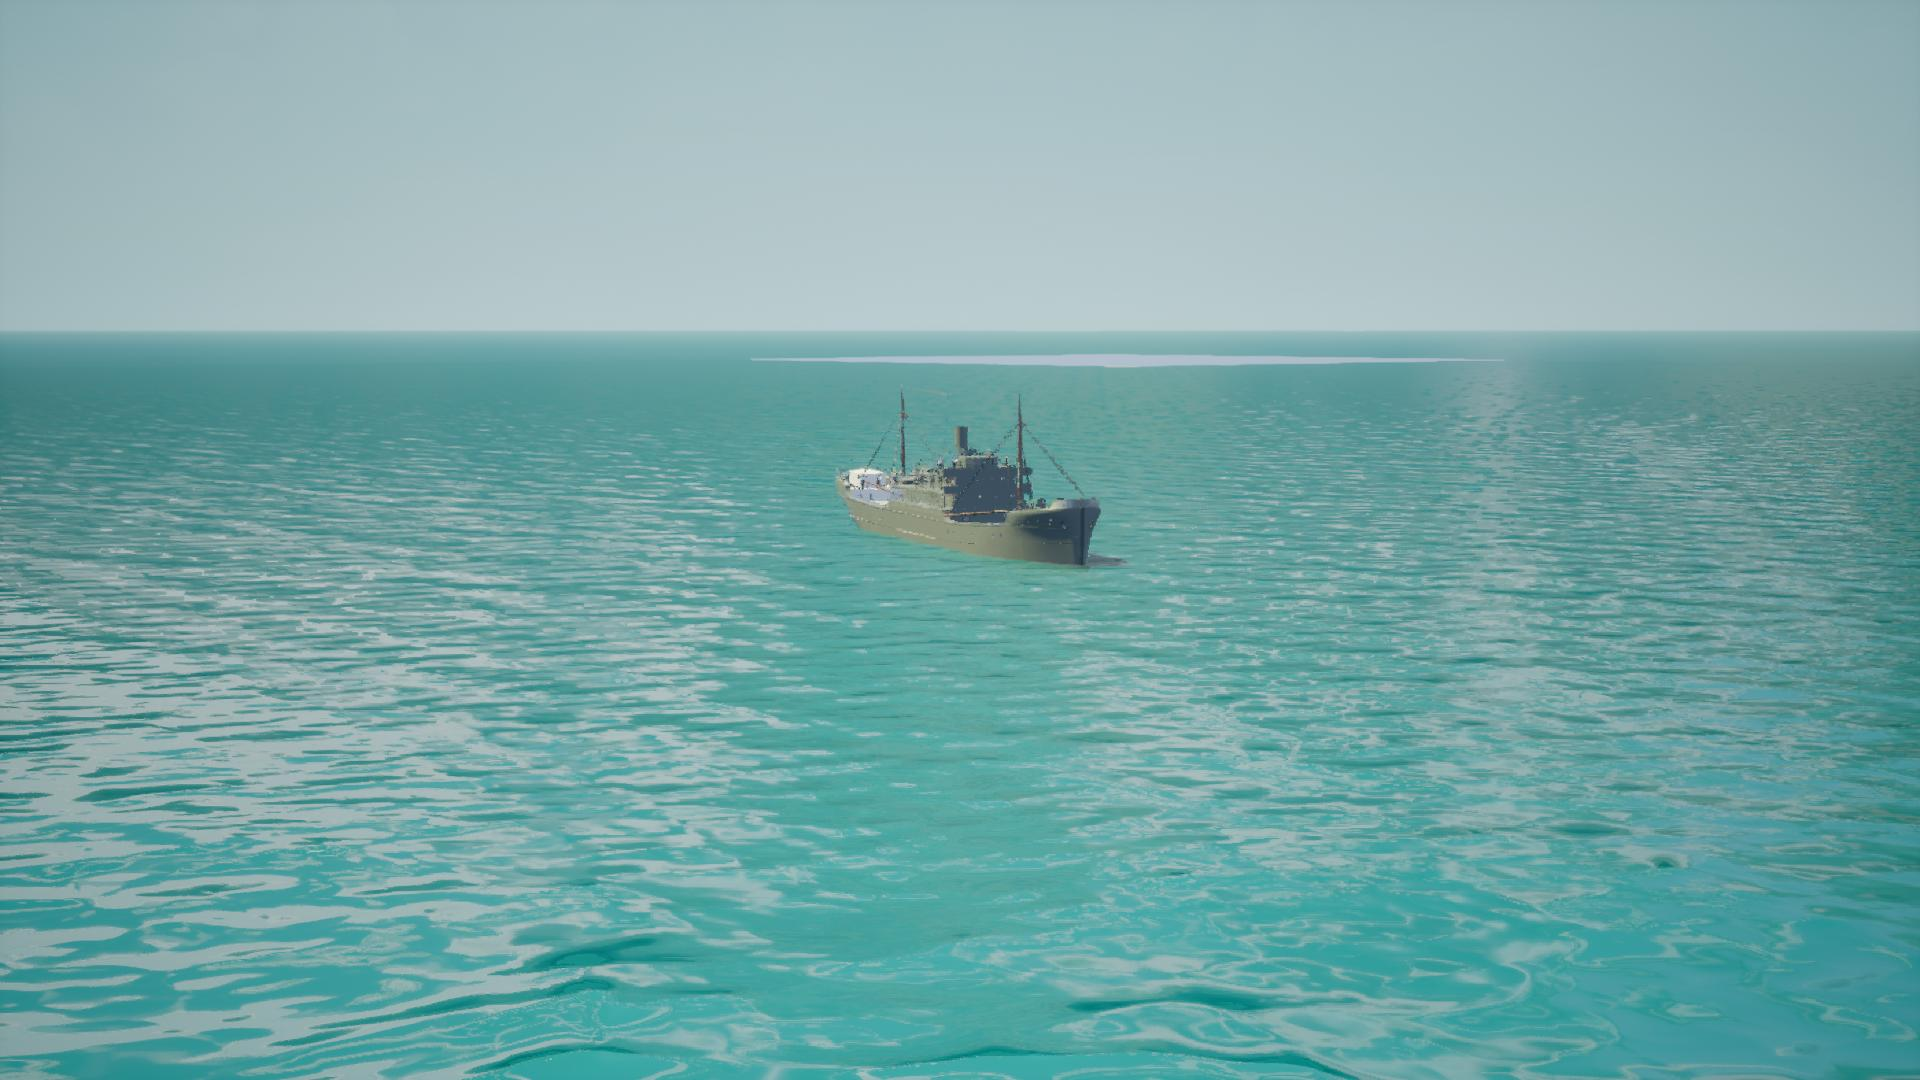Fishing Boat: (836, 392, 1110, 571)
